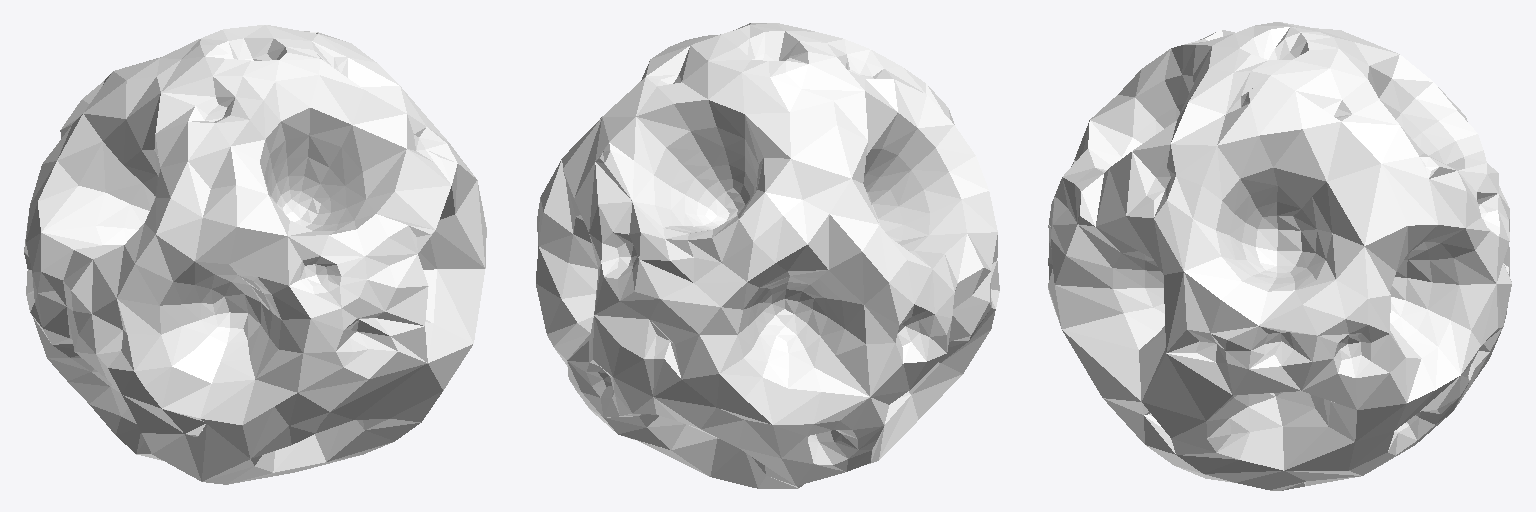
The model's file is Artifact04.Obj.
The picture shows the model from 3 angles: view 1: azimuth 30°, elevation 25°; view 2: azimuth 150°, elevation 25°; view 3: azimuth 270°, elevation 25°; orthographic projection.
Visible parts, largest first — view 1: Volume4; view 2: Volume4; view 3: Volume4.
Part boxes in pixels (x1,y1,x2,y2): Volume4: (24, 25, 486, 484); Volume4: (536, 23, 999, 488); Volume4: (1048, 22, 1511, 490).
Size of the model in its own units: 320 by 318 by 319.